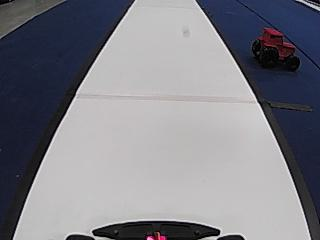Tracktor: (249, 23, 300, 71)
